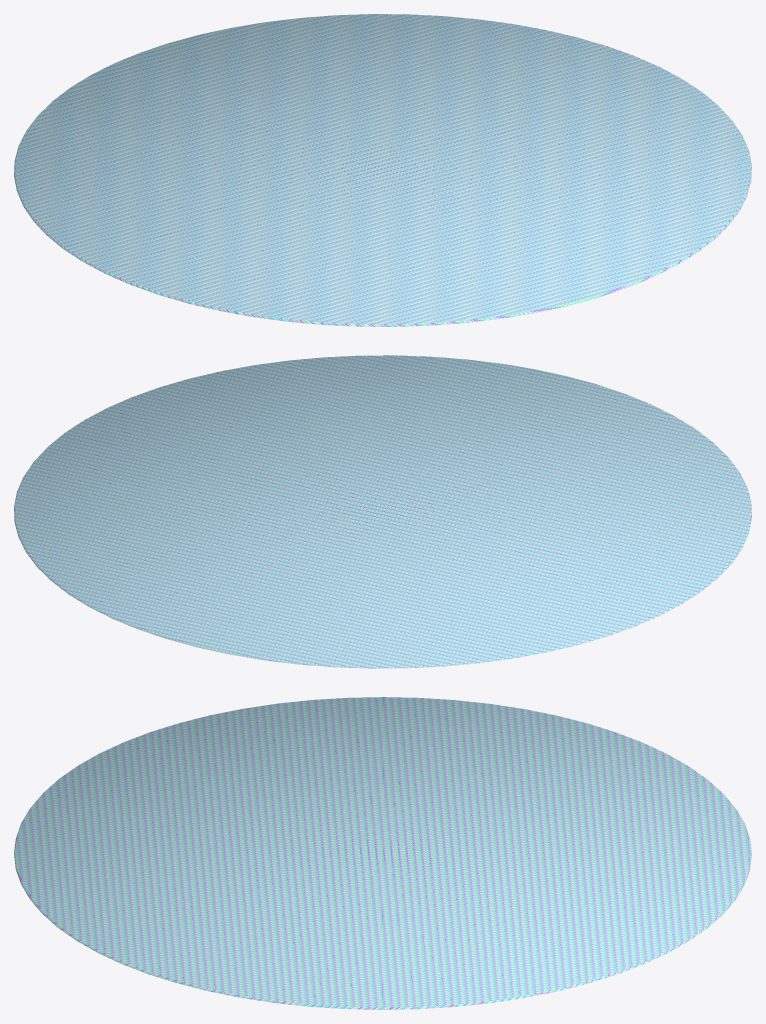
Rendered from water.obj.
The picture shows the model from 3 angles, top to bottom: view 1: azimuth 30°, elevation 25°; view 2: azimuth 150°, elevation 25°; view 3: azimuth 270°, elevation 25°; orthographic projection.
Parts seen in each view (by area): view 1: _9ada25bb_dds; view 2: _9ada25bb_dds; view 3: _9ada25bb_dds.
Part boxes in pixels (box(x1,y1,x2,y2)): _9ada25bb_dds: box(14, 14, 751, 326); _9ada25bb_dds: box(14, 355, 751, 668); _9ada25bb_dds: box(14, 697, 751, 1009).
Size of the model in its own units: 4.01 by 0.0113 by 4.01.
